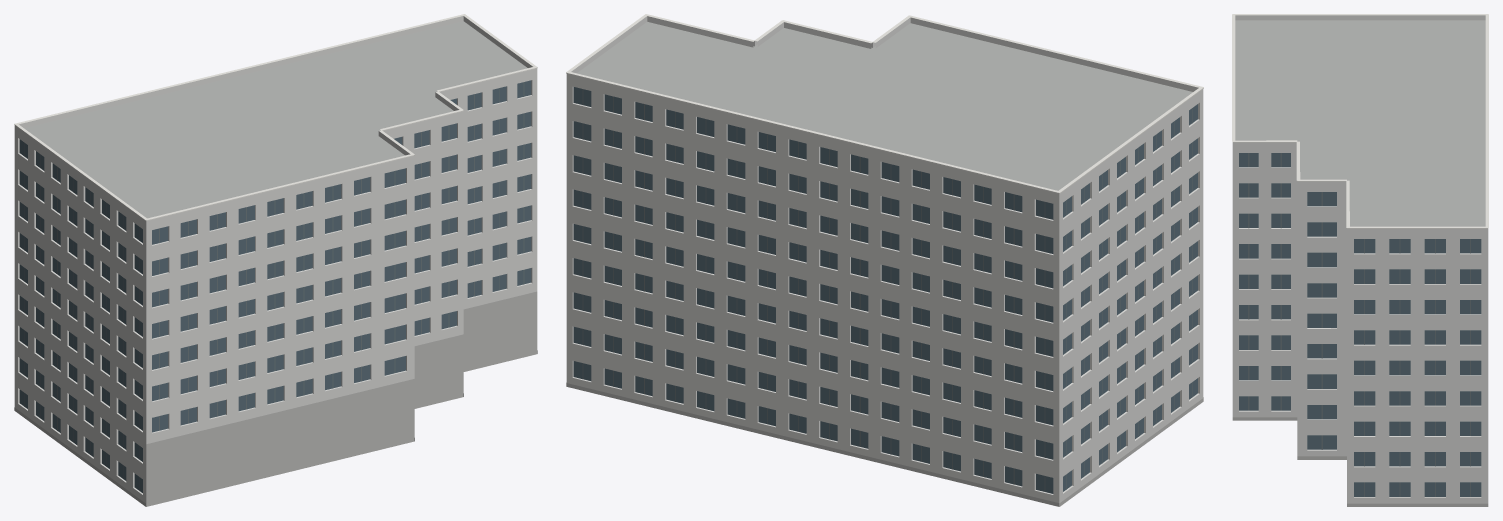
3 renders of one model, left to right at view 1: azimuth 30°, elevation 25°; view 2: azimuth 150°, elevation 25°; view 3: azimuth 270°, elevation 25°, orthographic. The views are drawn at different scales.
Visible parts, largest first — view 1: matthew__wall, matthew__roof, matthew__glass, matthew__base, matthew__parapet, matthew__trim, matthew__frame; view 2: matthew__wall, matthew__glass, matthew__roof, matthew__parapet, matthew__frame, matthew__trim, matthew__base; view 3: matthew__wall, matthew__roof, matthew__glass, matthew__trim, matthew__parapet, matthew__frame, matthew__base.
Part boxes in pixels (x1,y1,x2,y2): matthew__wall: (14,72,537,506); matthew__roof: (24,21,527,218); matthew__glass: (19,80,531,492); matthew__base: (14,291,537,506); matthew__parapet: (14,16,537,225); matthew__trim: (14,14,537,221); matthew__frame: (24,82,524,490); matthew__wall: (566,78,1203,506); matthew__glass: (573,87,1197,493); matthew__roof: (577,21,1192,190); matthew__parapet: (566,16,1203,198); matthew__frame: (582,89,1192,491); matthew__trim: (566,14,1203,193); matthew__base: (566,382,1203,506); matthew__wall: (1232,146,1488,503); matthew__roof: (1235,20,1485,226); matthew__glass: (1239,153,1481,496); matthew__trim: (1232,14,1488,228); matthew__parapet: (1232,15,1488,232); matthew__frame: (1248,153,1470,496); matthew__base: (1232,417,1488,506).
Size of the model in its own units: 54.32 by 33 by 27.55.
